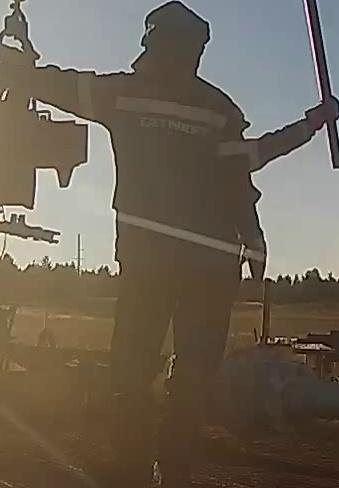gloves: (240, 226, 274, 292), (305, 97, 339, 135)
vest: (76, 67, 249, 297)
